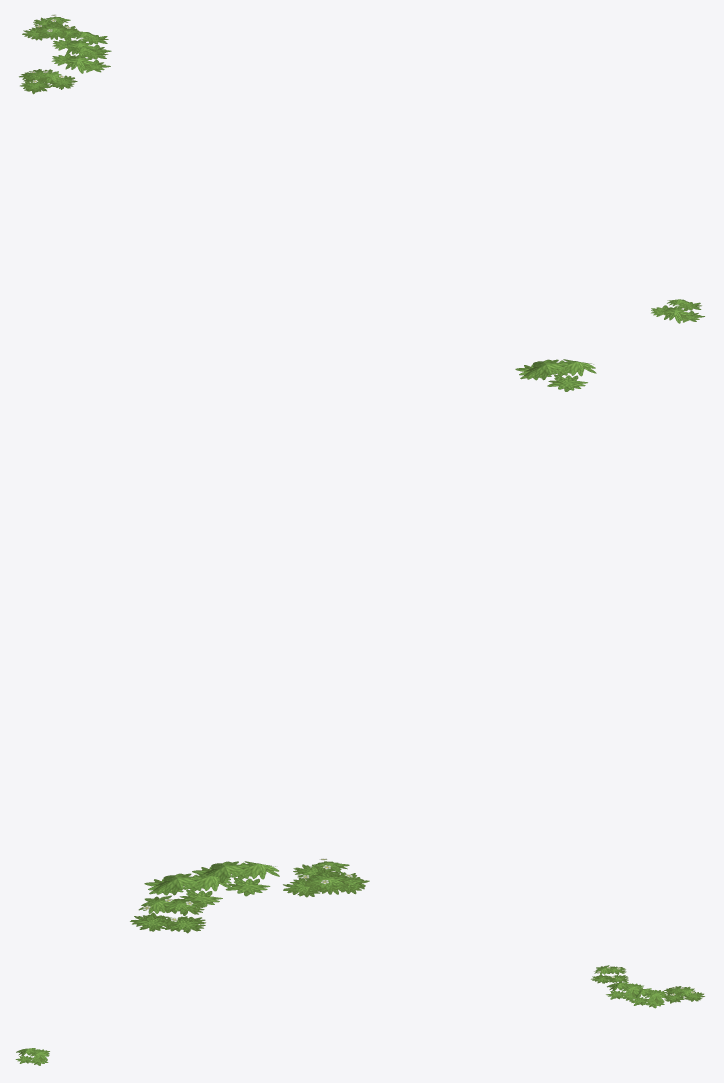
Rendered from Area_12_35.fbx.
The picture shows the model from 3 angles, top to bottom: view 1: azimuth 30°, elevation 25°; view 2: azimuth 150°, elevation 25°; view 3: azimuth 270°, elevation 25°; orthographic projection. The views are drawn at different scales.
Parts seen in each view (by area): view 1: Area_12_35; view 2: Area_12_35; view 3: Area_12_35.
Boxes of the visible parts, x1,y1,x2,y2 form: Area_12_35: [19, 14, 704, 323]; Area_12_35: [130, 359, 596, 933]; Area_12_35: [15, 965, 704, 1065].
Size of the model in its own units: 1520 by 64.77 by 4275.
